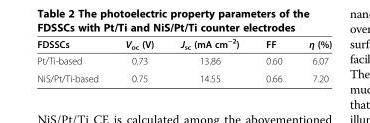table: (36, 36, 331, 83)
table column: (166, 36, 251, 83), (36, 36, 111, 83), (111, 36, 166, 83), (251, 36, 294, 83), (294, 36, 331, 83)
table column header: (36, 36, 331, 52)
table row: (36, 52, 331, 69), (36, 36, 331, 52), (36, 69, 331, 83)
